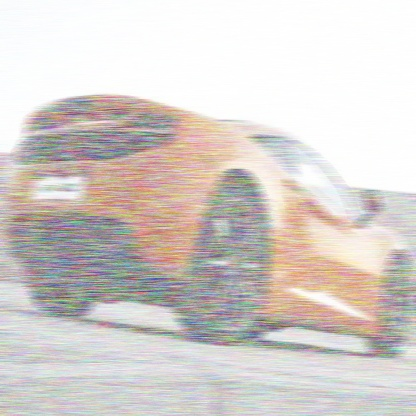Vehicle: (3, 92, 415, 362)
